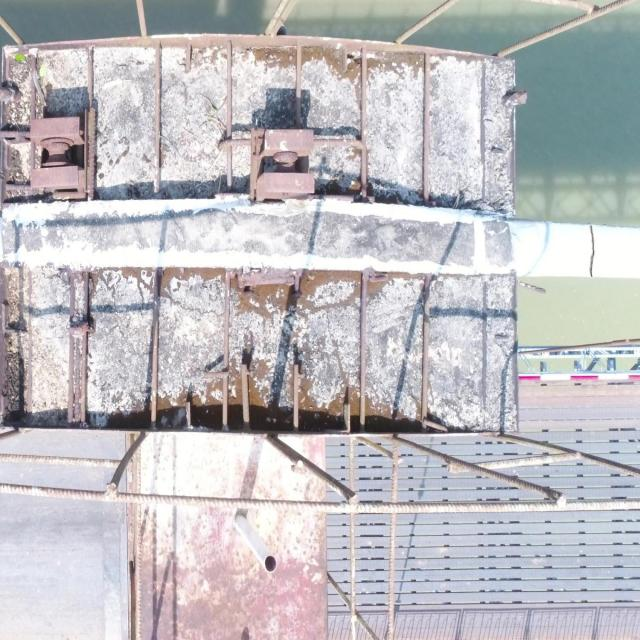crack: (588, 225, 596, 276)
